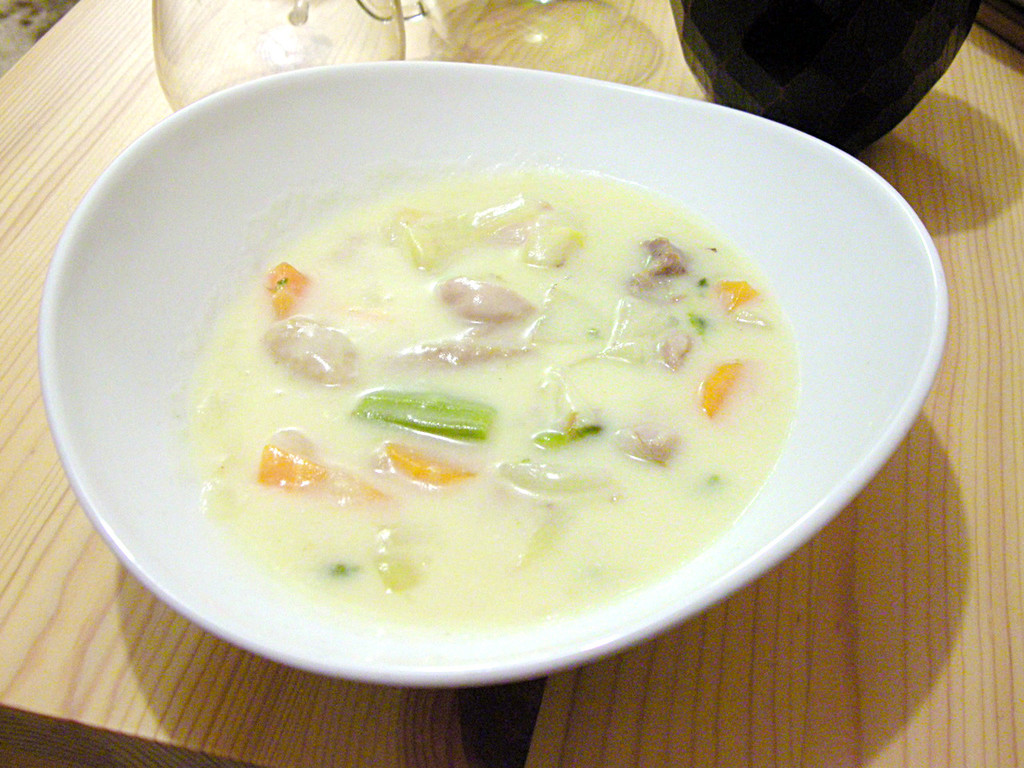person: (146, 0, 714, 109)
